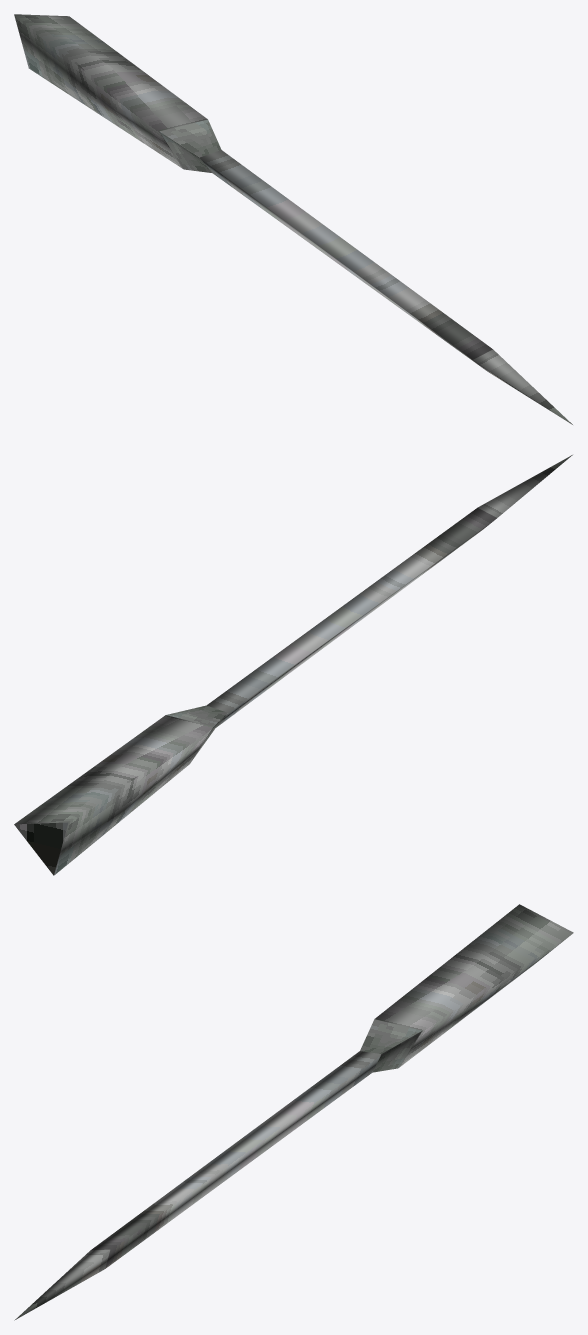
Rendered from bwing_weapon2l_s05_l3.fbx.
3 renders of one model, top to bottom at view 1: azimuth 30°, elevation 25°; view 2: azimuth 150°, elevation 25°; view 3: azimuth 330°, elevation 25°, orthographic.
Visible parts, largest first — view 1: mesh_node; view 2: mesh_node; view 3: mesh_node.
Part boxes in pixels (<box>): mesh_node: <box>14,14,572,424</box>; mesh_node: <box>14,455,572,875</box>; mesh_node: <box>14,904,573,1320</box>.
Bounding box in the file's own units: 0.1872 × 0.184 × 3.09.
1 material, 1 textured.
